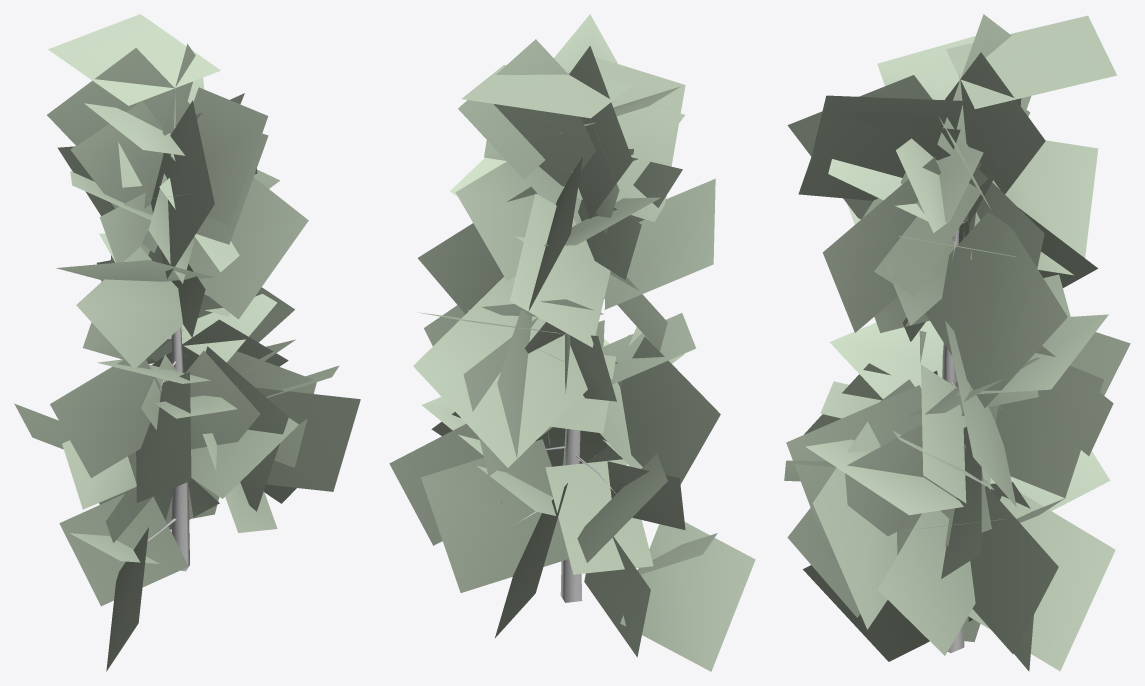
File: sugi3_lo.glb
3 renders of one model, left to right at view 1: azimuth 30°, elevation 25°; view 2: azimuth 150°, elevation 25°; view 3: azimuth 270°, elevation 25°, orthographic. The views are drawn at different scales.
Size of the model in its own units: 8.45 by 17 by 7.76.
